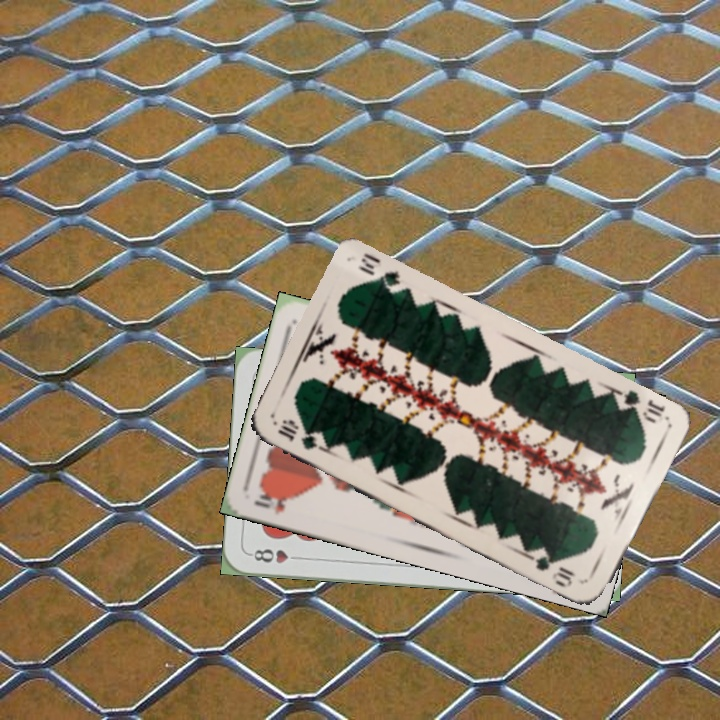G10: (614, 386, 668, 426), (273, 416, 329, 454)
H8: (246, 545, 306, 566)
HO: (250, 486, 296, 518)
